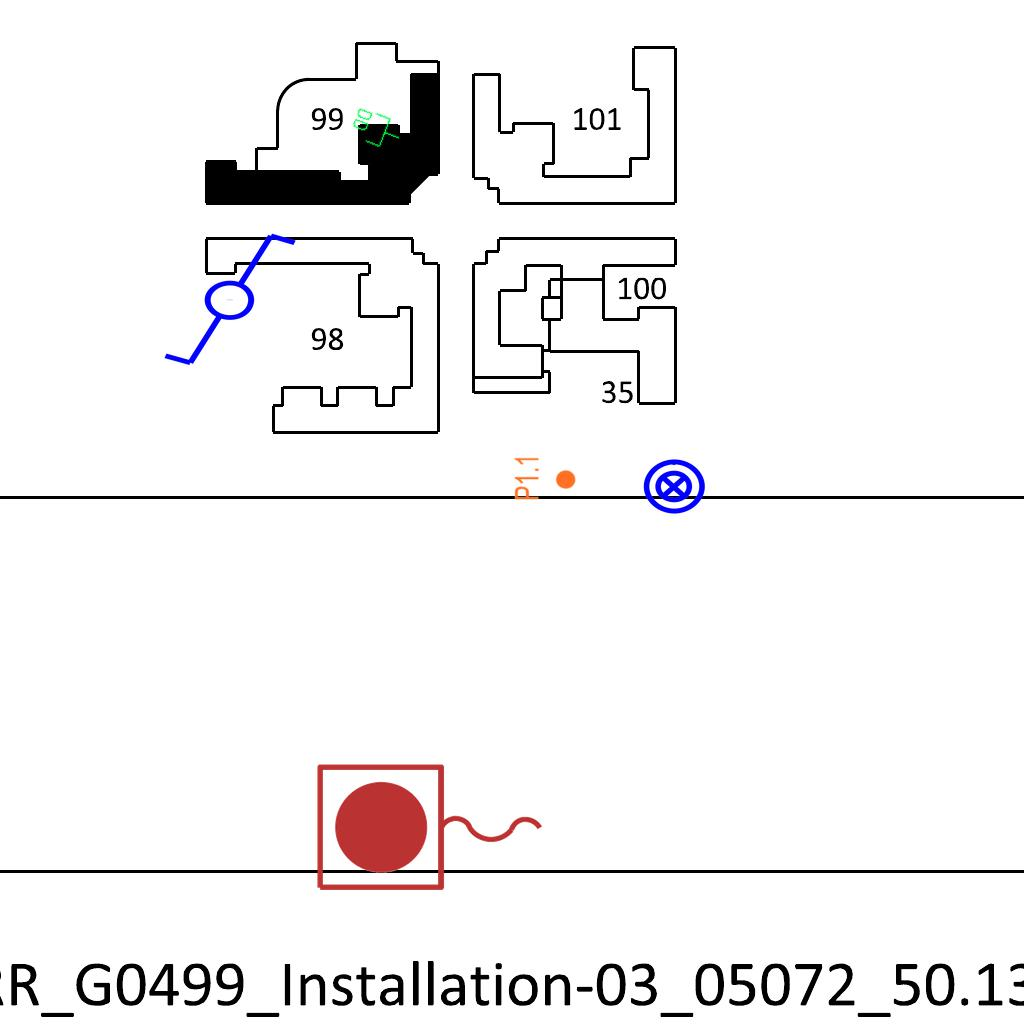Datenanschluss_zweifach: (346, 103, 407, 155)
Downlight_LED_Einbauleuchten_Flur: (513, 455, 577, 501)
Taster_beleuchtet: (641, 454, 707, 520)
Wechselschalter: (143, 226, 300, 370)
Zugtaster: (309, 757, 553, 901)
